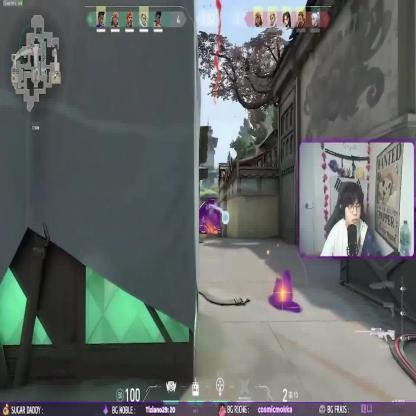enemy: (201, 216, 205, 232)
enemy_head: (202, 216, 204, 219)
